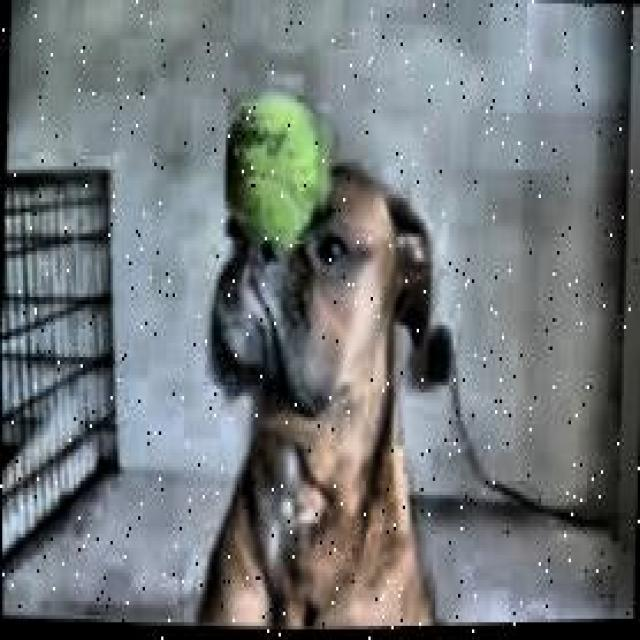tennis-ball: (224, 90, 330, 249)
